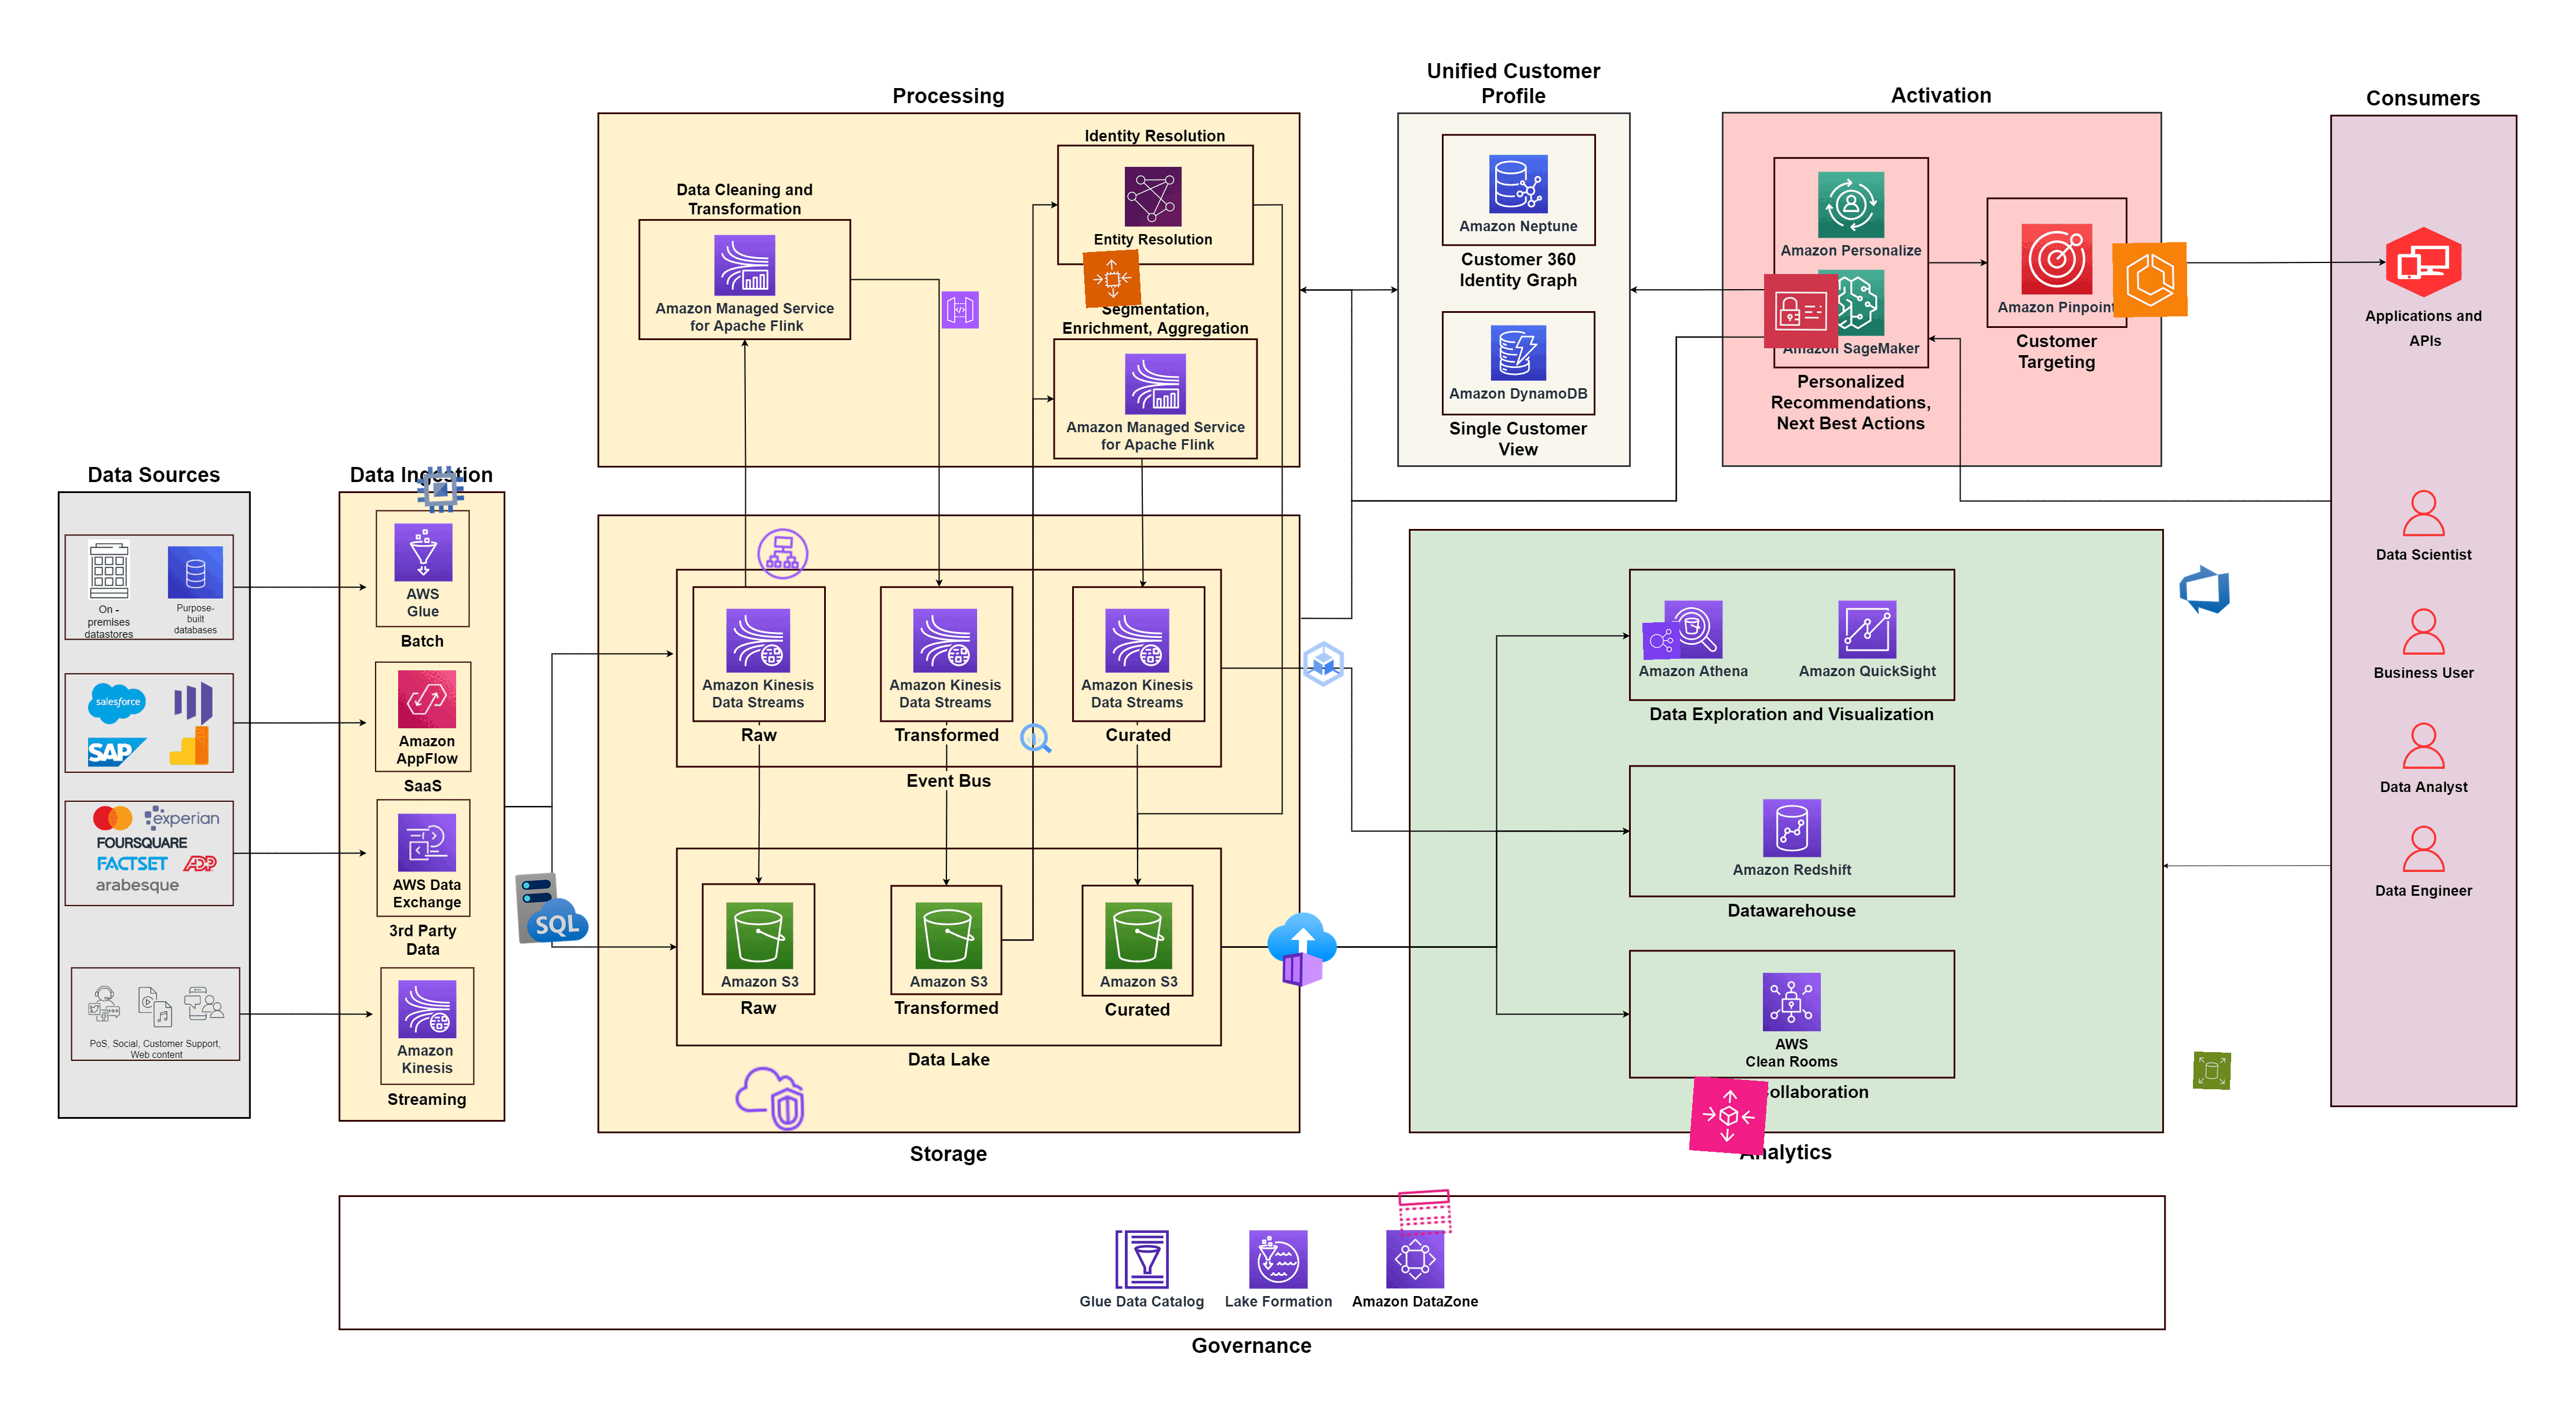aws_amazon_api_gateway: (942, 291, 980, 330)
aws_amazon_ec2_auto_scaling: (1083, 249, 1142, 309)
aws_amazon_elastic_block_store: (2192, 1052, 2232, 1090)
aws_amazon_elastic_container_service: (2112, 242, 2189, 317)
aws_auto_scaling: (1688, 1076, 1768, 1156)
aws_elastic_load_balancing: (1641, 621, 1681, 661)
aws_elastic_load_balancing_application_load_balancer: (753, 525, 813, 584)
aws_identity_and_access_management: (1763, 274, 1838, 349)
aws_simple_notification_service_topic: (1395, 1182, 1455, 1242)
aws_vpc_virtual_private_cloud_vpc: (731, 1060, 809, 1139)
azure_container_instances: (1264, 912, 1341, 987)
azure_devops: (2175, 560, 2234, 619)
azure_sql_managed_instance: (513, 868, 591, 947)
gcp_bigquery: (1015, 718, 1055, 759)
gcp_compute_engine: (412, 460, 469, 520)
gcp_google_kubernetes_engine: (1296, 635, 1352, 692)
